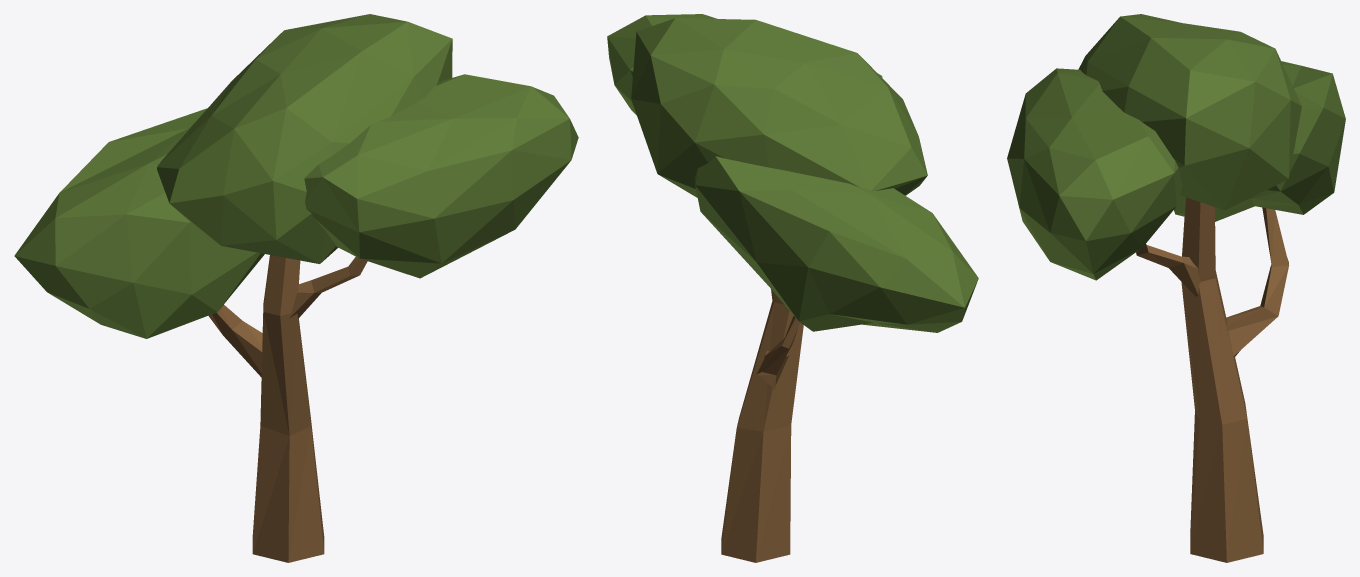
Rendered from Tree_5_1.FBX.
3 renders of one model, left to right at view 1: azimuth 30°, elevation 25°; view 2: azimuth 150°, elevation 25°; view 3: azimuth 270°, elevation 25°, orthographic. The views are drawn at different scales.
Visible parts, largest first — view 1: Tree_5_1; view 2: Tree_5_1; view 3: Tree_5_1.
Boxes of the visible parts, x1,y1,x2,y2 form: Tree_5_1: [14, 14, 578, 562]; Tree_5_1: [607, 14, 978, 562]; Tree_5_1: [1007, 14, 1345, 562].
Size of the model in its own units: 138 by 144 by 84.32.
1 material, 1 textured.
